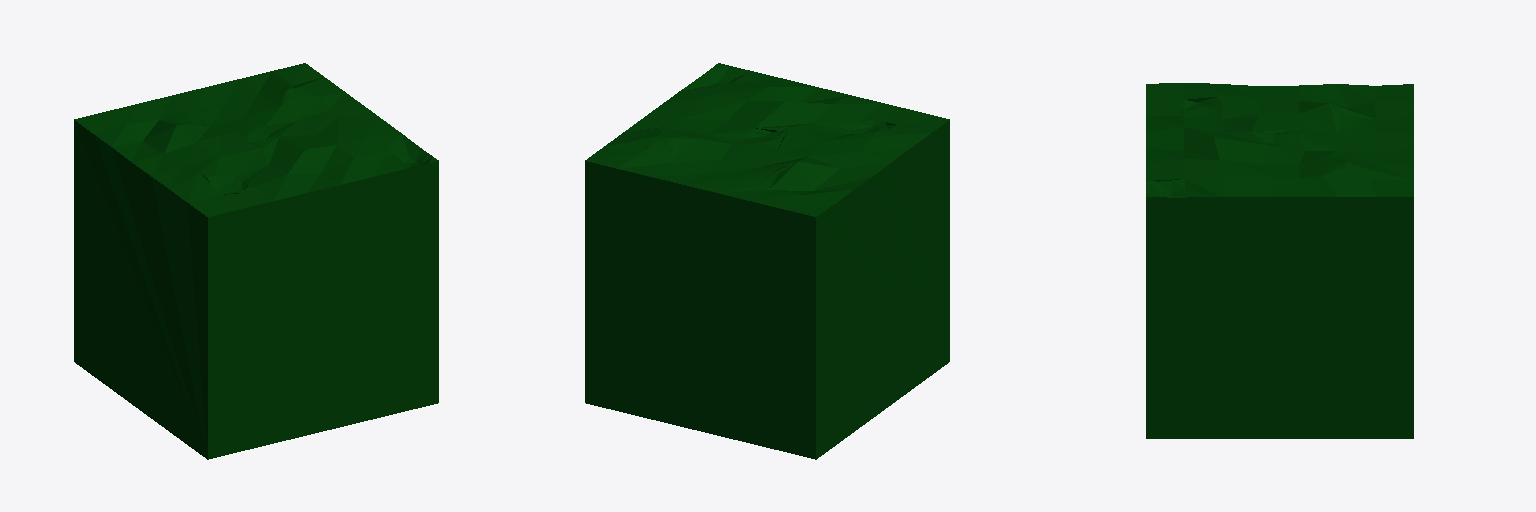
Rendered from grass.obj.
3 renders of one model, left to right at view 1: azimuth 30°, elevation 25°; view 2: azimuth 150°, elevation 25°; view 3: azimuth 270°, elevation 25°, orthographic.
Visible parts, largest first — view 1: Cube.001; view 2: Cube.001; view 3: Cube.001.
Part boxes in pixels (x1,y1,x2,y2): Cube.001: (74, 63, 438, 459); Cube.001: (585, 63, 949, 459); Cube.001: (1146, 83, 1413, 438).
Size of the model in its own units: 2.01 by 2.09 by 2.